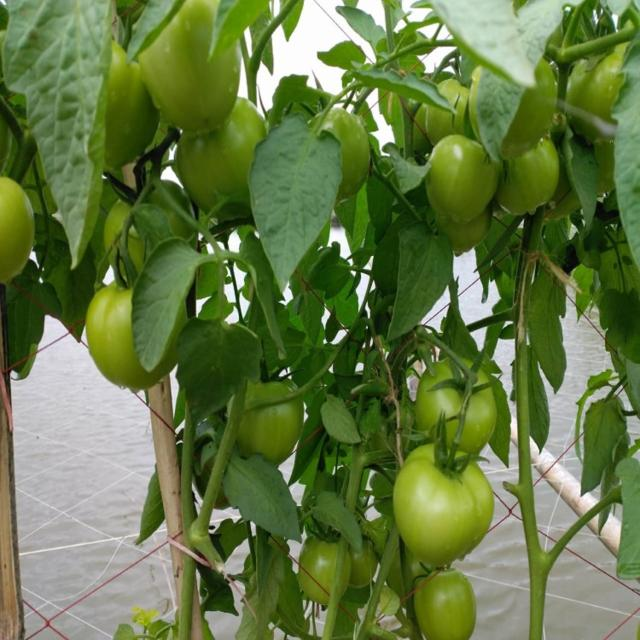tomato: (148, 1, 241, 126), (395, 443, 495, 559), (180, 101, 265, 214), (91, 286, 163, 390), (425, 354, 493, 452), (102, 43, 155, 167), (229, 381, 304, 462), (428, 138, 489, 220), (566, 46, 619, 133), (499, 143, 561, 215), (413, 570, 476, 640), (317, 104, 366, 189), (297, 529, 347, 601), (103, 199, 148, 276), (518, 53, 558, 135), (4, 174, 33, 284), (417, 71, 469, 127), (350, 529, 376, 591)
